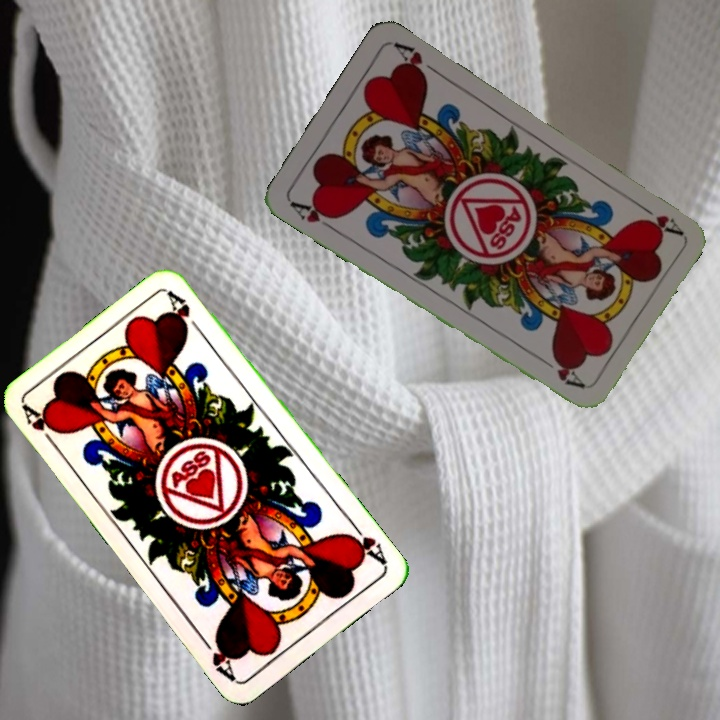HA: (341, 517, 389, 567), (19, 401, 64, 453), (632, 198, 684, 238), (286, 197, 340, 235)
